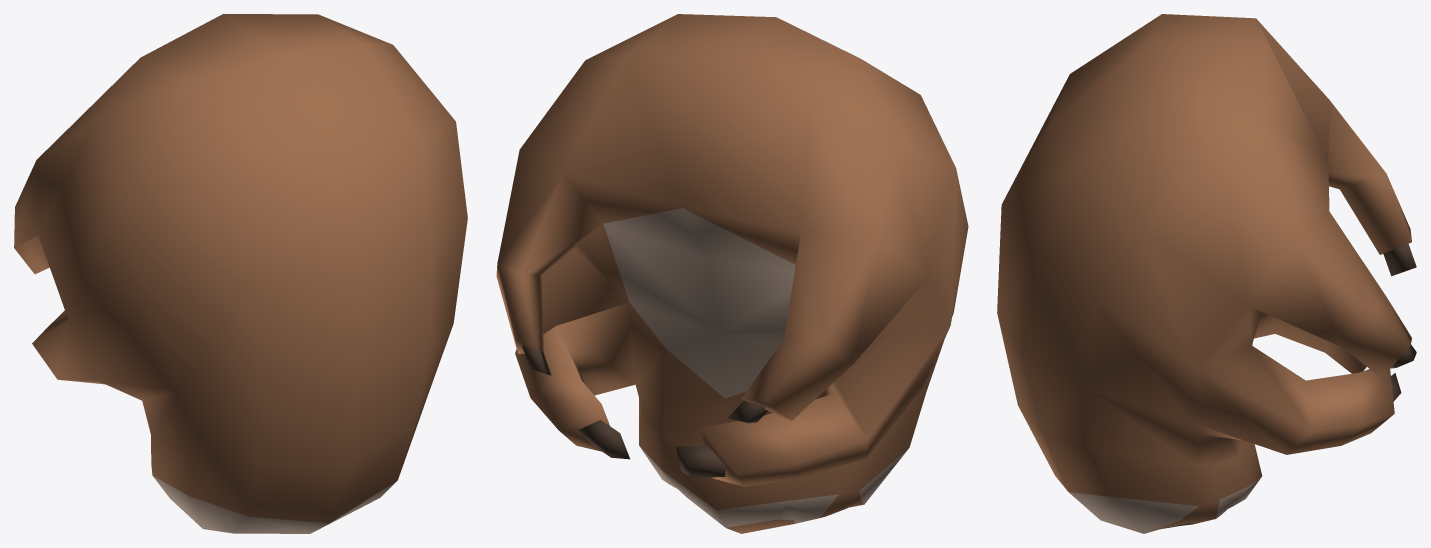
File: hat-sloth.glb
The picture shows the model from 3 angles, left to right: view 1: azimuth 30°, elevation 25°; view 2: azimuth 150°, elevation 25°; view 3: azimuth 270°, elevation 25°; orthographic projection. The views are drawn at different scales.
Parts seen in each view (by area): view 1: hat-sloth; view 2: hat-sloth; view 3: hat-sloth.
Boxes of the visible parts, bbox=[...] form: hat-sloth: bbox=[14, 14, 467, 533]; hat-sloth: bbox=[496, 14, 968, 533]; hat-sloth: bbox=[997, 14, 1416, 533].
Bounding box in the file's own units: 1.29 × 1.5 × 1.21.
Materials: 1 (1 with a texture image).
